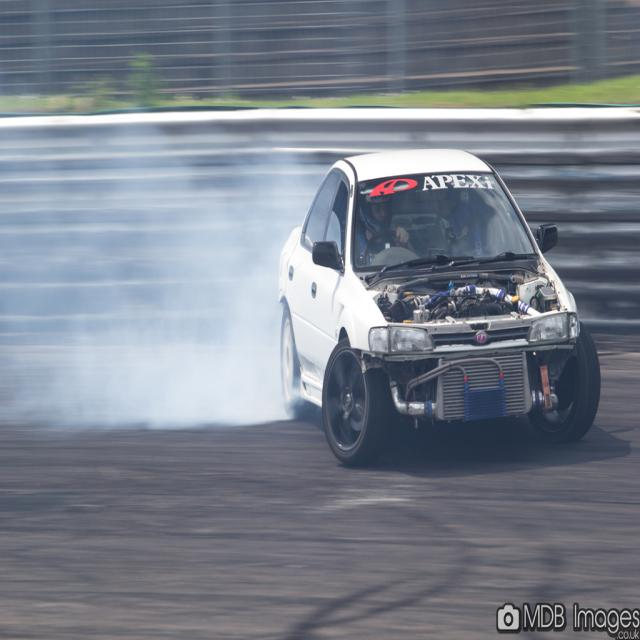car: (277, 141, 601, 461)
